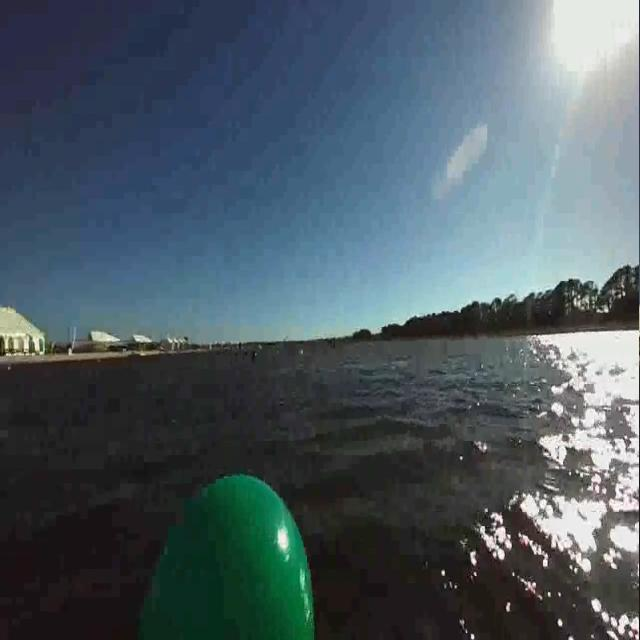green-buoy: (123, 465, 324, 640)
